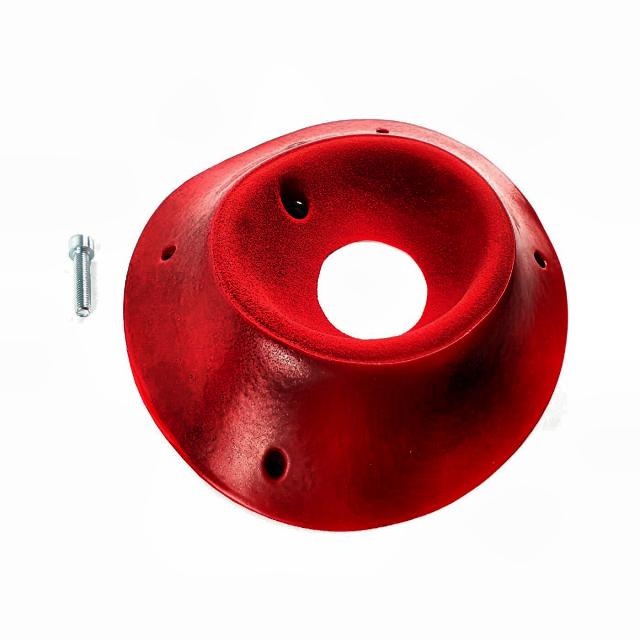Hold: (124, 116, 569, 539)
